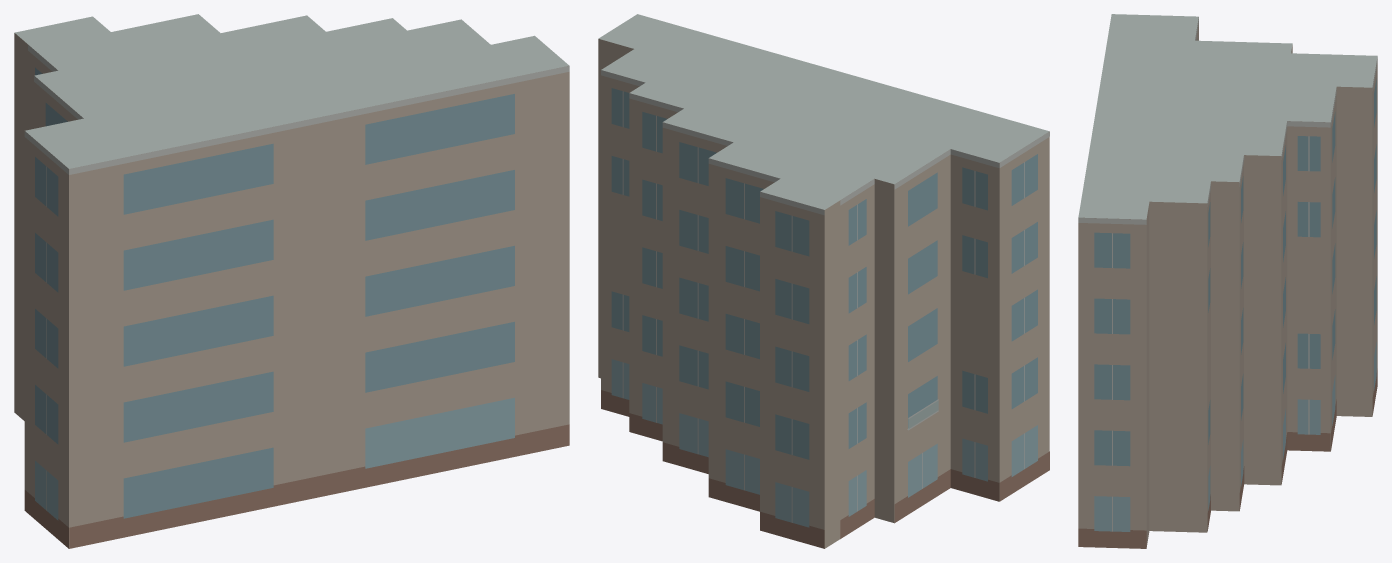
The model's file is survey-upis-32633258.glb.
3 views of the same model, side by side, from view 1: azimuth 30°, elevation 25°; view 2: azimuth 150°, elevation 25°; view 3: azimuth 270°, elevation 25° (orthographic). The views are drawn at different scales.
Visible parts, largest first — view 1: survey-upis-32633258.tmp; view 2: survey-upis-32633258.tmp; view 3: survey-upis-32633258.tmp.
Part boxes in pixels (x1,y1,x2,y2): survey-upis-32633258.tmp: (14,14,569,548); survey-upis-32633258.tmp: (598,14,1049,548); survey-upis-32633258.tmp: (1078,14,1377,548).
Size of the model in its own units: 20.43 by 15.25 by 12.57.
